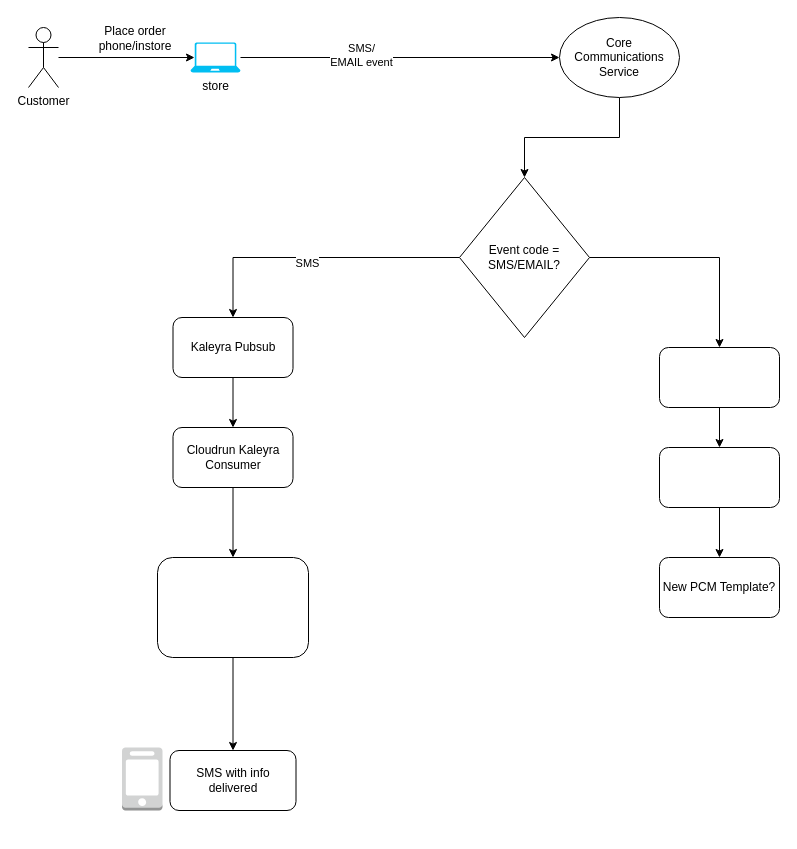
The diagram is 797 pixels wide and 849 high, and some of its shapes have lost their labels. Here are the shapes that lost their labels. From the top down, the box of each, then its label:
(658, 346, 780, 408): PCM Pubsub
(658, 446, 780, 508): Cloudrun PCM Consumer
(156, 556, 308, 658): Trigger VDPORDERPLACED/ VDPORDERREADY/ VDPORDERREMINDER MultiStep Programs
(121, 746, 162, 810): Text Y/N
